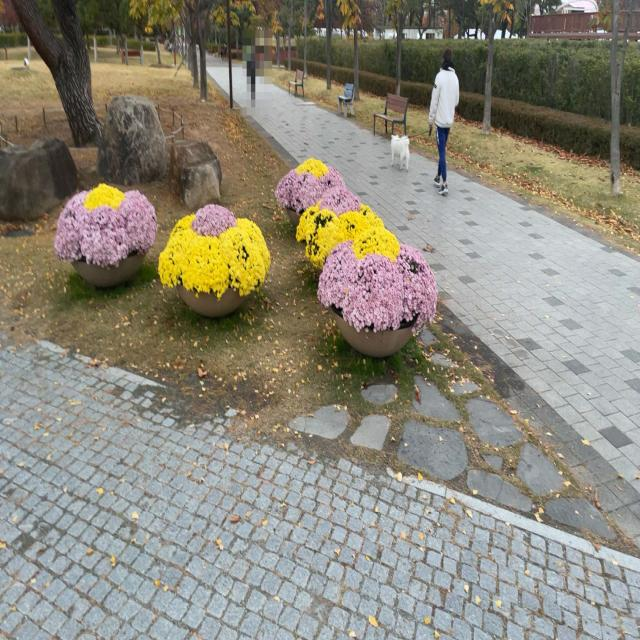Leashed_Dog: (391, 113, 442, 172)
